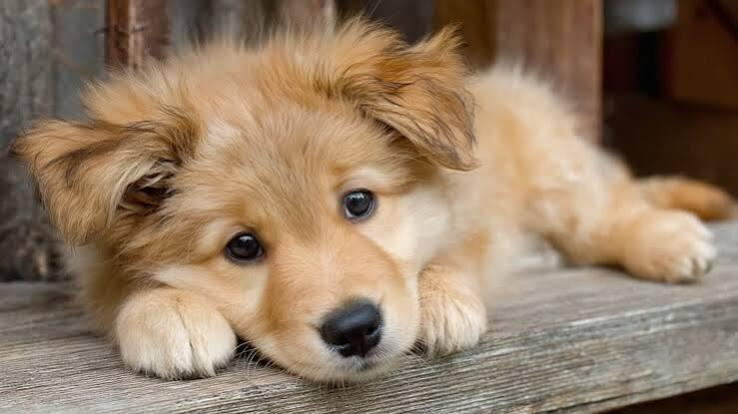puppy-dog: (13, 7, 738, 390)
